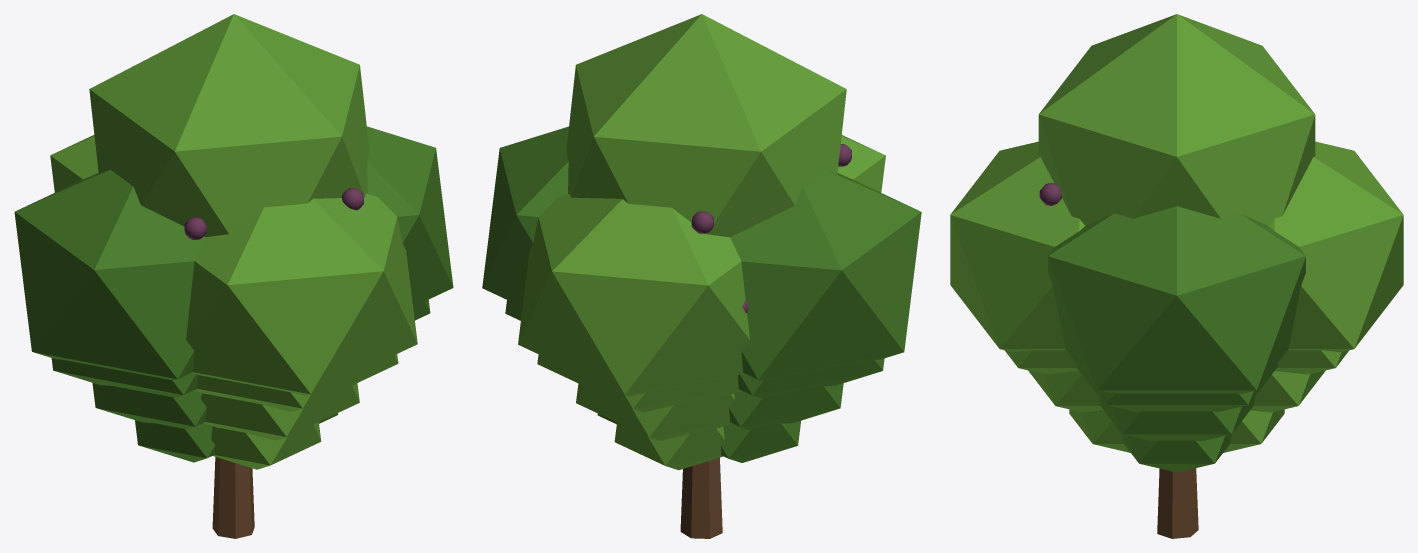
Rendered from Crop_Fruit_Fig.fbx.
3 renders of one model, left to right at view 1: azimuth 30°, elevation 25°; view 2: azimuth 150°, elevation 25°; view 3: azimuth 270°, elevation 25°, orthographic.
Parts seen in each view (by area): view 1: Crop_Fruit_Fig__S4, Crop_Fruit_Fig__S2, Crop_Fruit_Fig__S3, Crop_Fruit_Fig__S1; view 2: Crop_Fruit_Fig__S4, Crop_Fruit_Fig__S2, Crop_Fruit_Fig__S3, Crop_Fruit_Fig__S1; view 3: Crop_Fruit_Fig__S4, Crop_Fruit_Fig__S2, Crop_Fruit_Fig__S3, Crop_Fruit_Fig__S1.
Part boxes in pixels (x1,y1,x2,y2): Crop_Fruit_Fig__S4: (14, 14, 453, 538); Crop_Fruit_Fig__S2: (92, 383, 359, 440); Crop_Fruit_Fig__S3: (51, 299, 430, 411); Crop_Fruit_Fig__S1: (135, 413, 338, 469); Crop_Fruit_Fig__S4: (482, 14, 921, 538); Crop_Fruit_Fig__S2: (576, 383, 843, 440); Crop_Fruit_Fig__S3: (505, 300, 884, 412); Crop_Fruit_Fig__S1: (597, 413, 800, 470); Crop_Fruit_Fig__S4: (950, 14, 1403, 538); Crop_Fruit_Fig__S2: (1028, 370, 1325, 441); Crop_Fruit_Fig__S3: (1005, 350, 1348, 411); Crop_Fruit_Fig__S1: (1069, 409, 1284, 472).
Size of the model in its own units: 0.6887 by 0.84 by 0.6691.
